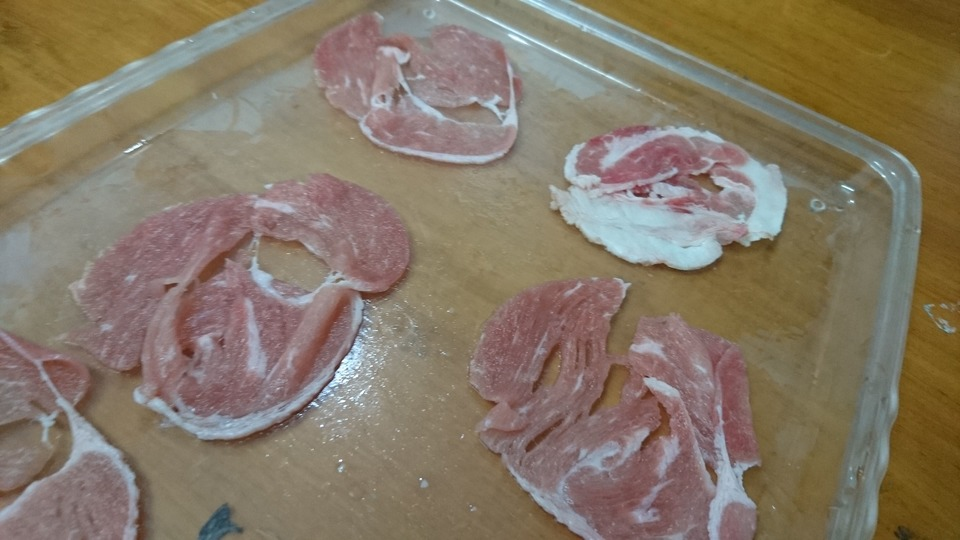restructured meat: (479, 267, 776, 540), (90, 191, 429, 422), (554, 112, 796, 282), (315, 8, 534, 172), (4, 321, 142, 540)
